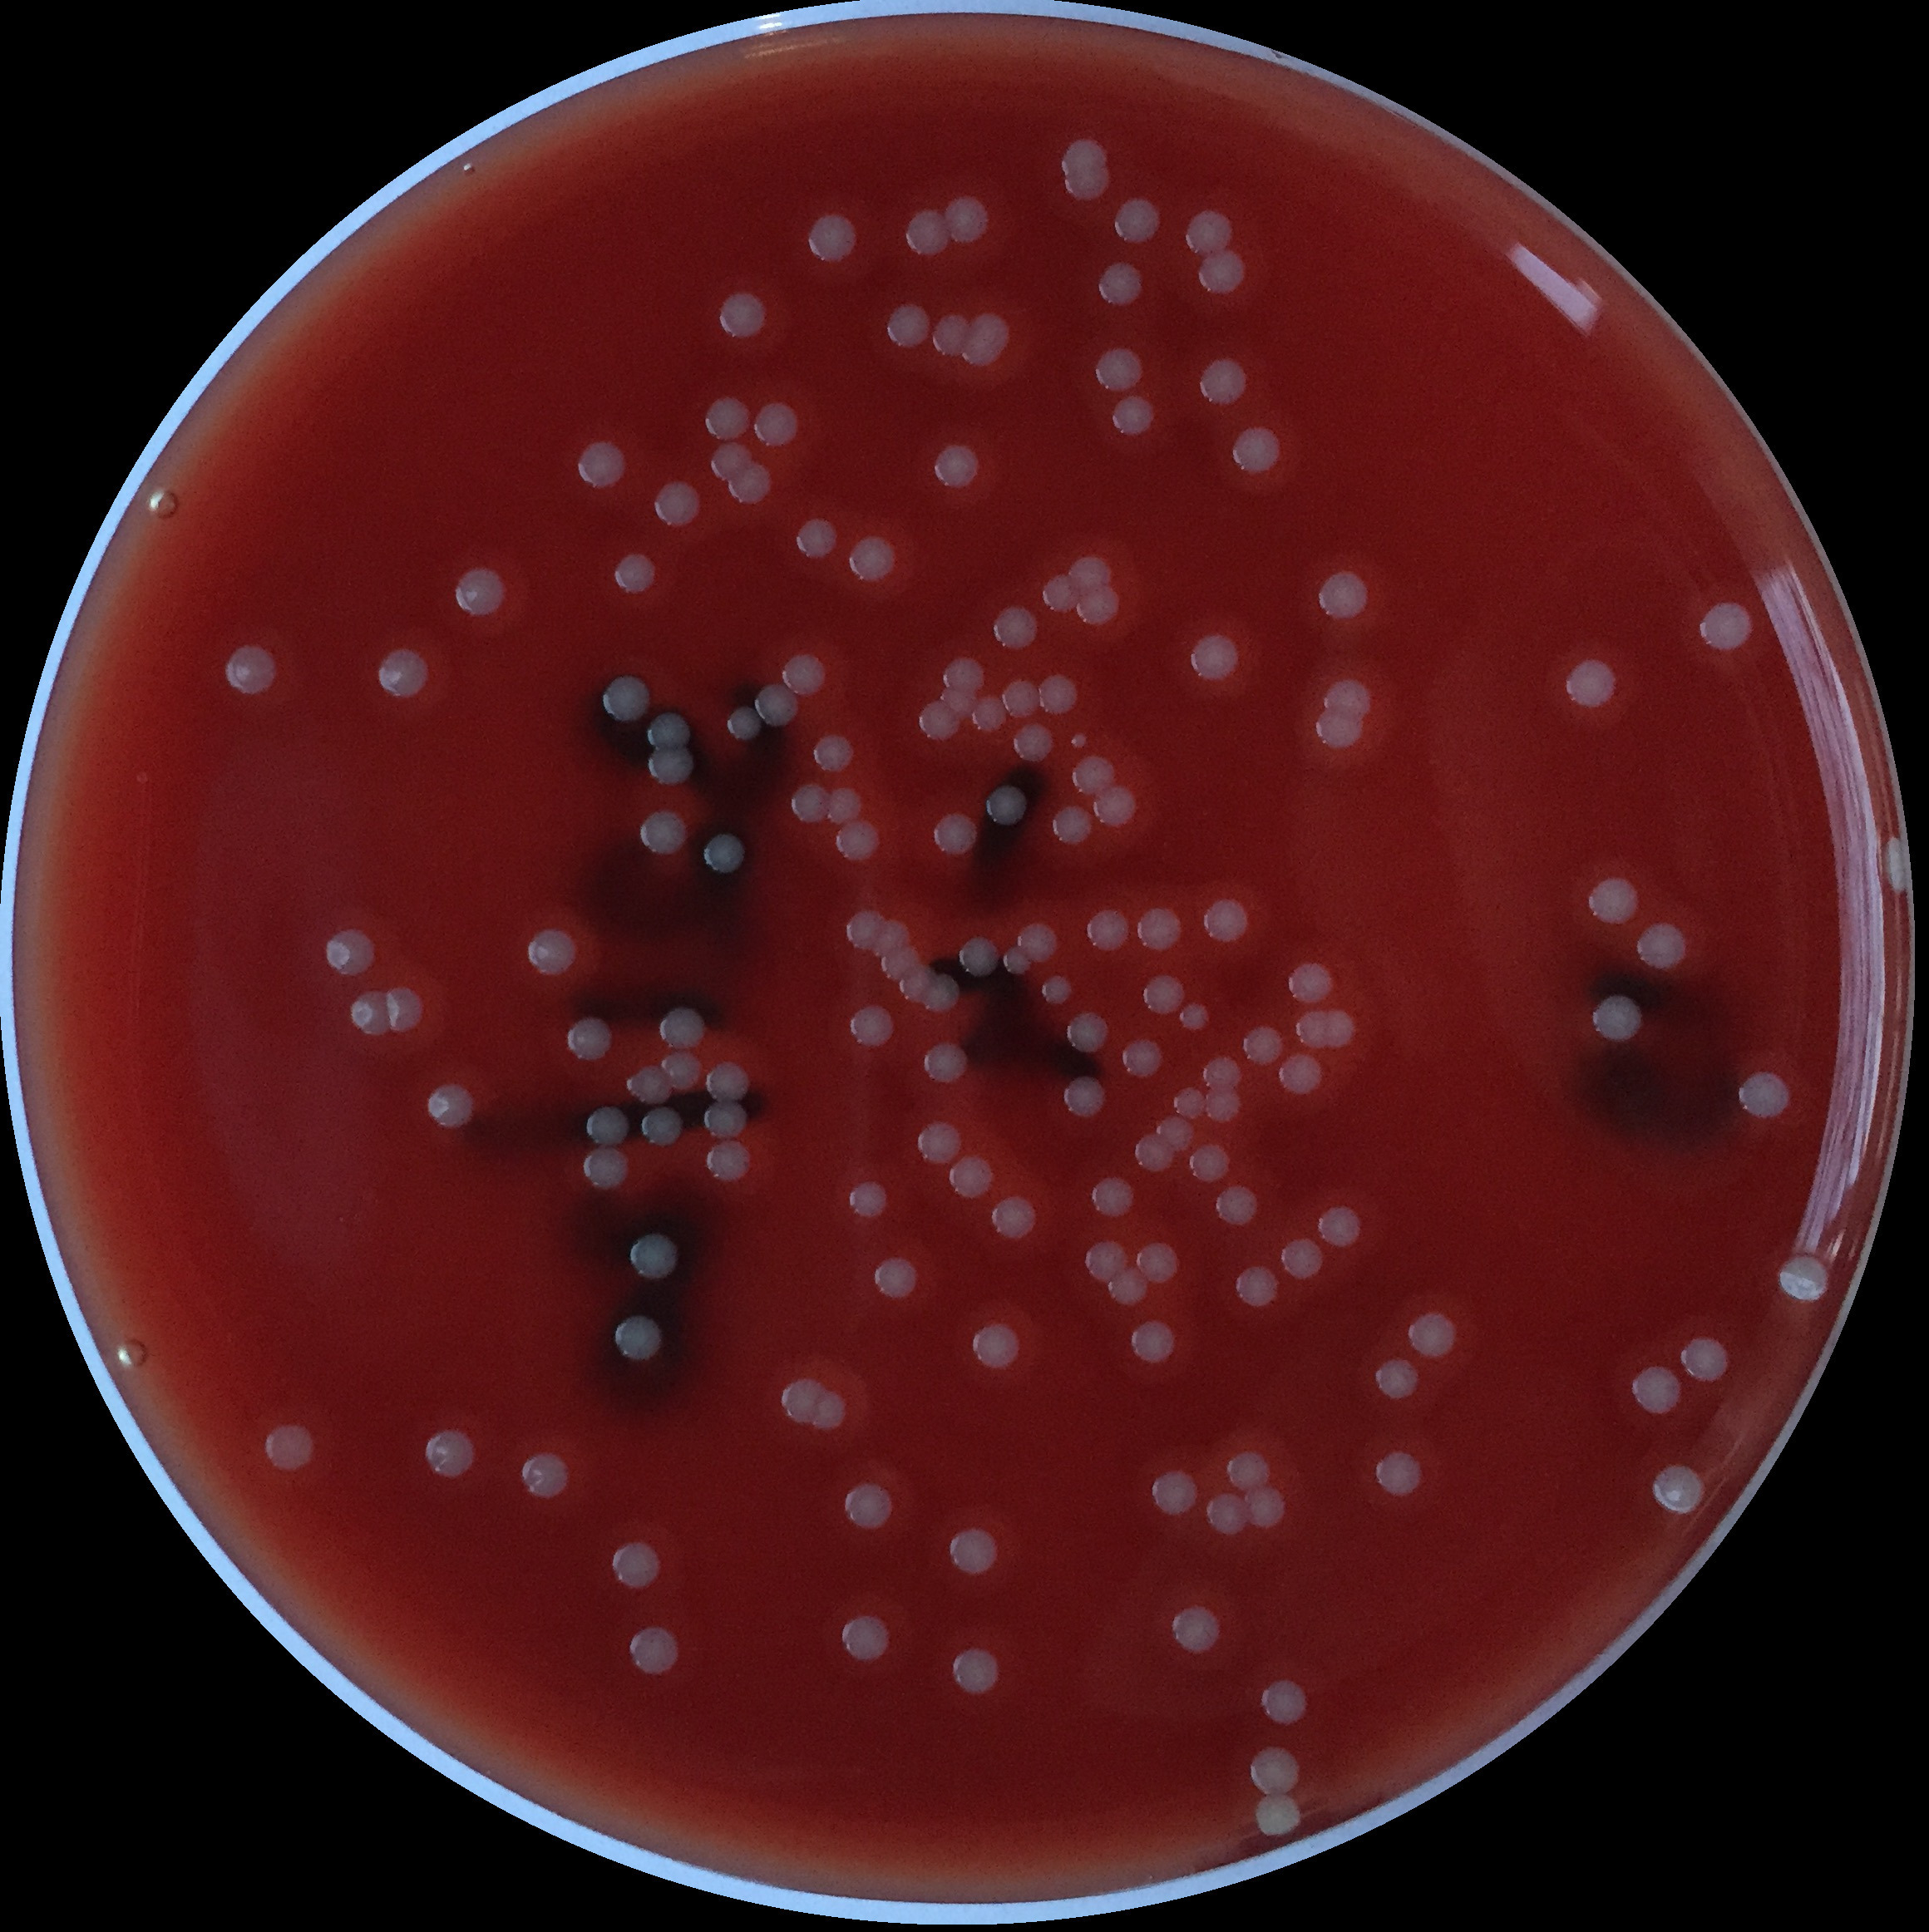sp21: (648, 475, 712, 537), (1629, 917, 1694, 975), (221, 639, 283, 698), (424, 1425, 486, 1483), (839, 1478, 897, 1538), (449, 563, 507, 623), (374, 645, 433, 705), (578, 1143, 639, 1199), (1694, 597, 1758, 652), (1735, 1068, 1795, 1125), (516, 1450, 578, 1505), (712, 288, 772, 343), (1562, 655, 1622, 710), (1648, 1460, 1708, 1515), (802, 212, 864, 265), (572, 438, 634, 491), (1775, 1250, 1834, 1305), (947, 1524, 1005, 1579), (261, 1422, 320, 1476), (1187, 629, 1247, 682), (1588, 869, 1641, 929), (1625, 1363, 1685, 1416), (1092, 256, 1146, 313), (1194, 355, 1249, 411), (1371, 1445, 1426, 1501), (1676, 1333, 1733, 1388), (950, 1644, 1007, 1699), (1588, 992, 1646, 1045), (837, 1614, 896, 1667), (1166, 1604, 1224, 1657), (1247, 1743, 1305, 1796), (424, 1079, 482, 1132), (1404, 1310, 1464, 1362), (1314, 567, 1371, 620), (846, 532, 899, 588), (523, 927, 579, 980), (1228, 422, 1286, 473), (927, 440, 986, 491), (929, 811, 987, 862), (912, 1118, 970, 1169), (987, 1194, 1040, 1249), (611, 1314, 664, 1369), (608, 1538, 662, 1591), (1148, 1469, 1205, 1521), (323, 929, 382, 978), (1231, 1261, 1284, 1314), (777, 648, 830, 701), (565, 1012, 618, 1065), (625, 1233, 680, 1284), (1063, 1008, 1115, 1063), (599, 671, 654, 722), (1092, 344, 1148, 394), (1275, 1051, 1332, 1100), (1134, 971, 1191, 1021), (634, 807, 691, 857), (1258, 1676, 1309, 1729), (627, 1625, 680, 1676), (1194, 245, 1249, 295), (1275, 1236, 1330, 1286), (943, 1151, 998, 1201), (1320, 675, 1376, 722), (1279, 959, 1335, 1007), (1131, 1240, 1187, 1287), (652, 1007, 710, 1053), (942, 194, 993, 245), (749, 401, 800, 452), (989, 602, 1040, 653), (1069, 747, 1120, 798), (1240, 1482, 1291, 1533), (1252, 1789, 1304, 1840), (1182, 207, 1235, 256), (970, 1321, 1023, 1370), (1134, 901, 1184, 954), (1081, 1240, 1136, 1287), (867, 1254, 922, 1302), (1198, 1489, 1254, 1535), (1090, 781, 1141, 830), (581, 1102, 632, 1151), (1083, 906, 1134, 955), (903, 210, 956, 258), (1106, 392, 1159, 440), (703, 1137, 756, 1185), (1371, 1358, 1426, 1404), (700, 832, 754, 878), (779, 1377, 828, 1427), (346, 987, 396, 1037), (1074, 581, 1125, 629), (920, 1040, 972, 1088), (700, 396, 753, 441), (1314, 706, 1367, 752), (834, 818, 887, 864), (705, 438, 758, 484), (641, 745, 694, 791), (620, 1063, 675, 1107), (383, 982, 427, 1037), (726, 459, 775, 507), (609, 549, 659, 597), (1118, 1037, 1169, 1083), (1222, 1448, 1274, 1494), (749, 682, 800, 728), (700, 1100, 753, 1144), (1005, 724, 1060, 766), (1062, 162, 1118, 203), (885, 300, 933, 348), (1060, 1074, 1108, 1121), (1127, 1321, 1178, 1365), (952, 332, 1005, 374), (1210, 1185, 1263, 1227), (636, 1107, 689, 1150), (1203, 897, 1249, 945), (811, 731, 857, 779), (1111, 198, 1161, 242), (1063, 553, 1113, 597), (809, 1385, 853, 1434), (705, 1060, 754, 1104), (952, 936, 1002, 980), (844, 1001, 894, 1045), (839, 906, 889, 950), (647, 710, 696, 754), (1048, 804, 1099, 846), (655, 1051, 707, 1093), (1035, 671, 1081, 717), (1237, 1023, 1282, 1068), (1014, 920, 1060, 966), (982, 784, 1030, 828), (1092, 1176, 1139, 1220), (791, 516, 839, 560), (866, 918, 915, 961), (1058, 136, 1109, 177), (1196, 1083, 1242, 1127), (1316, 1203, 1362, 1247), (896, 962, 940, 1008), (786, 781, 832, 825), (931, 311, 973, 358), (915, 699, 963, 742), (1320, 1003, 1360, 1053), (876, 943, 926, 984), (1035, 574, 1081, 616), (919, 973, 964, 1015), (934, 683, 982, 724), (846, 1176, 894, 1217), (1104, 1264, 1146, 1309), (1291, 1007, 1332, 1053), (823, 786, 869, 826), (964, 311, 1012, 350), (1185, 1146, 1233, 1185), (724, 701, 765, 745), (1131, 1134, 1176, 1173), (998, 680, 1042, 719), (1150, 1114, 1194, 1153), (940, 653, 980, 694), (1198, 1054, 1242, 1091), (970, 694, 1009, 735), (1168, 1083, 1207, 1123), (1173, 1001, 1215, 1035), (1035, 971, 1074, 1007), (1002, 945, 1033, 977), (1063, 728, 1093, 751)
